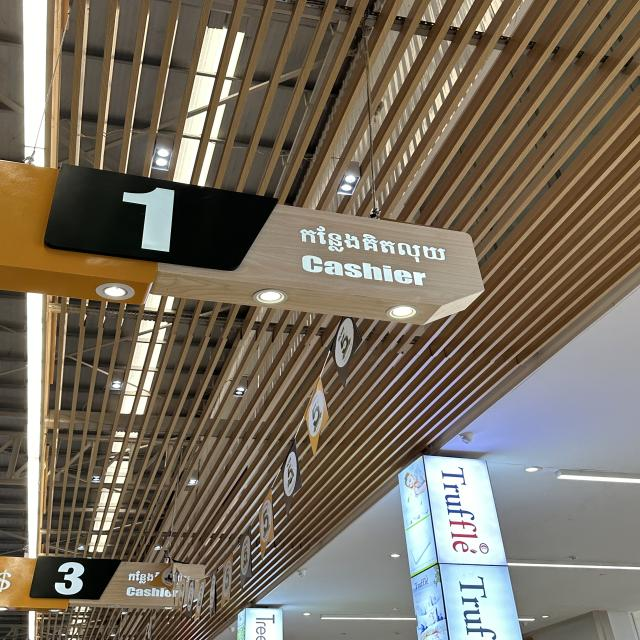Yolov11kh: (291, 223, 449, 267)
